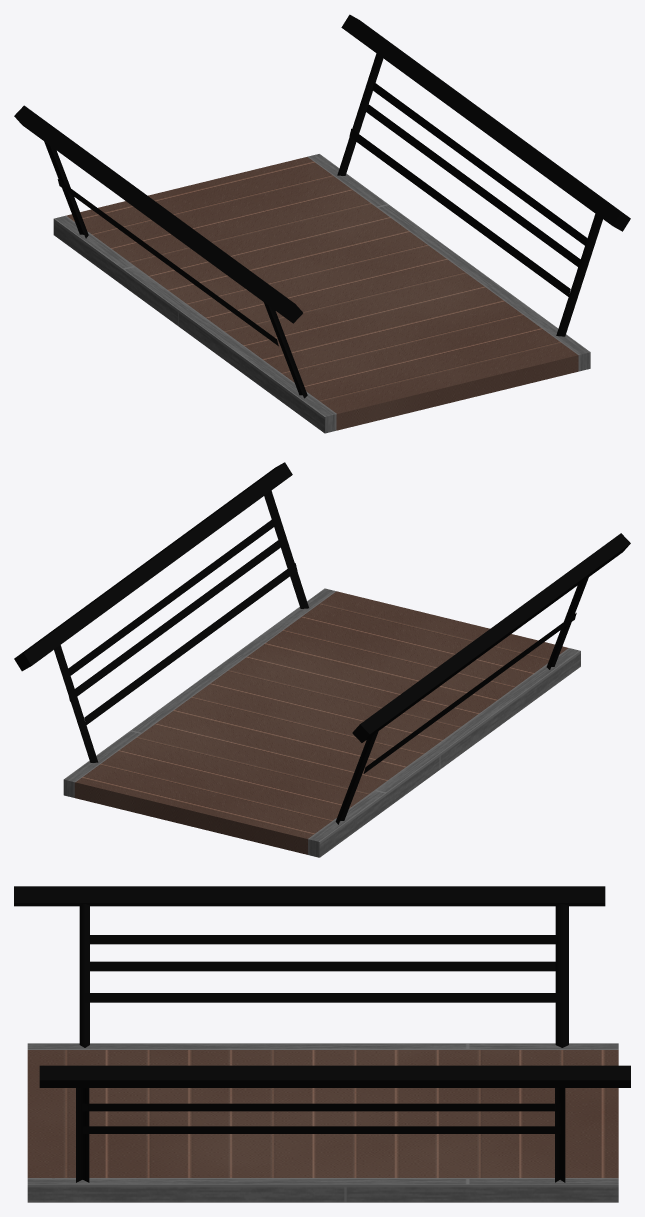
File: BlockChain_Bridge_Art.glb
3 renders of one model, top to bottom at view 1: azimuth 30°, elevation 25°; view 2: azimuth 150°, elevation 25°; view 3: azimuth 270°, elevation 25°, orthographic. The views are drawn at different scales.
Parts seen in each view (by area): view 1: BlockChain_Bridge_Art; view 2: BlockChain_Bridge_Art; view 3: BlockChain_Bridge_Art.
Boxes of the visible parts, x1,y1,x2,y2 form: BlockChain_Bridge_Art: (14,14,630,433); BlockChain_Bridge_Art: (14,462,630,857); BlockChain_Bridge_Art: (14,886,630,1202).
Size of the model in its own units: 3.23 by 1.24 by 4.43.
2 materials, 2 textured.
